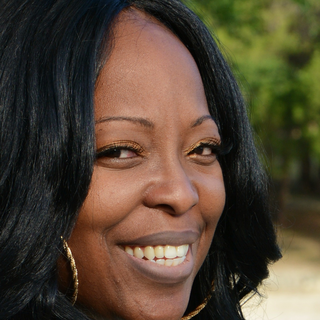eye: (87, 141, 145, 165), (183, 138, 222, 163)
